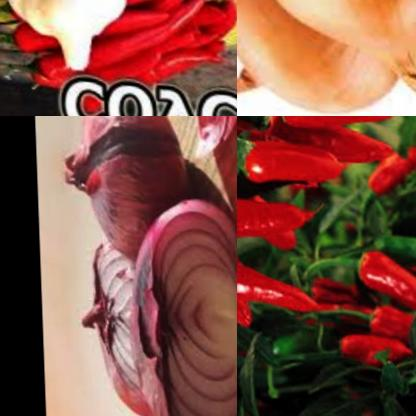garlic: (0, 0, 130, 70)
hot pepper: (0, 0, 237, 116), (237, 122, 356, 195), (263, 116, 396, 170), (237, 238, 325, 315), (328, 308, 416, 368), (351, 238, 416, 315), (237, 176, 311, 239), (360, 133, 416, 190), (361, 287, 416, 337), (269, 116, 404, 136)
onion: (118, 184, 237, 416), (49, 116, 196, 252), (237, 0, 406, 116), (246, 0, 416, 99), (81, 220, 146, 415), (126, 116, 237, 168)
